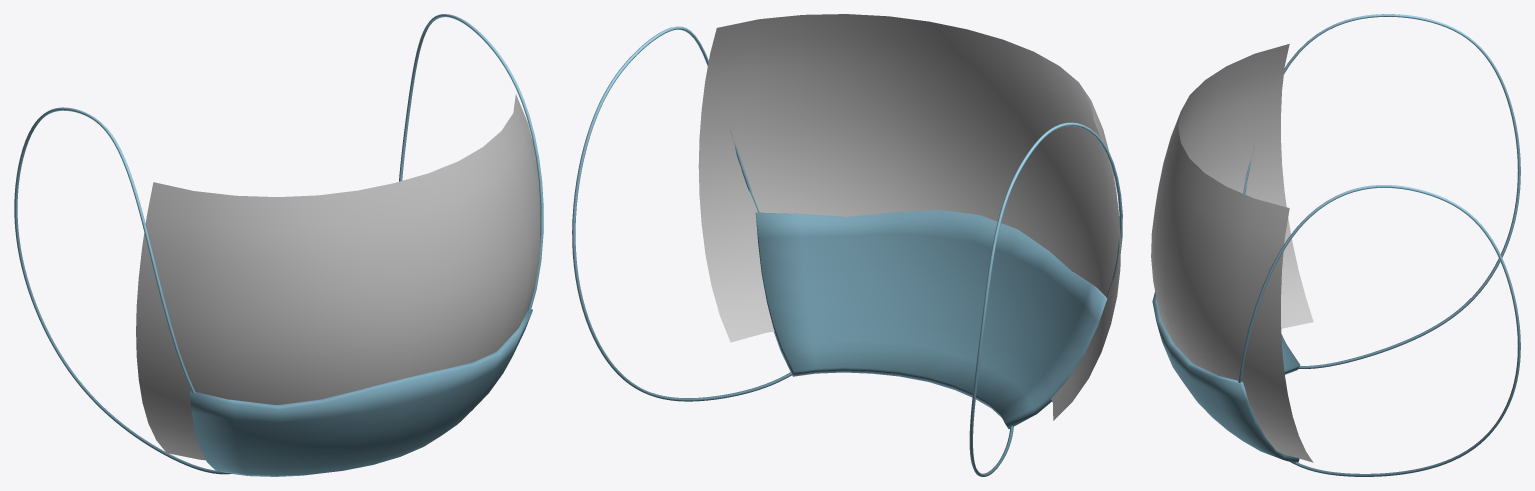
File: Blue Mouth Mask.fbx
3 renders of one model, left to right at view 1: azimuth 30°, elevation 25°; view 2: azimuth 150°, elevation 25°; view 3: azimuth 270°, elevation 25°, orthographic. The views are drawn at different scales.
Parts seen in each view (by area): view 1: Blue Mask; view 2: Blue Mask; view 3: Blue Mask.
Boxes of the visible parts, x1,y1,x2,y2 form: Blue Mask: (14,14,543,476); Blue Mask: (572,14,1122,476); Blue Mask: (1151,14,1520,476).
Bounding box in the file's own units: 55.82 × 45.42 × 47.46.
